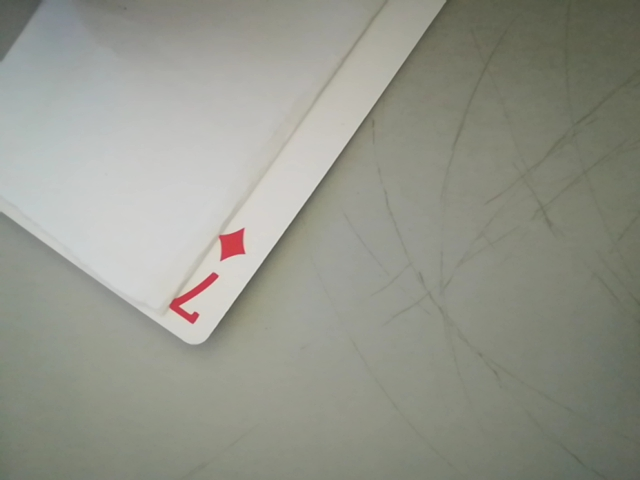fk 7: (160, 219, 260, 338)
